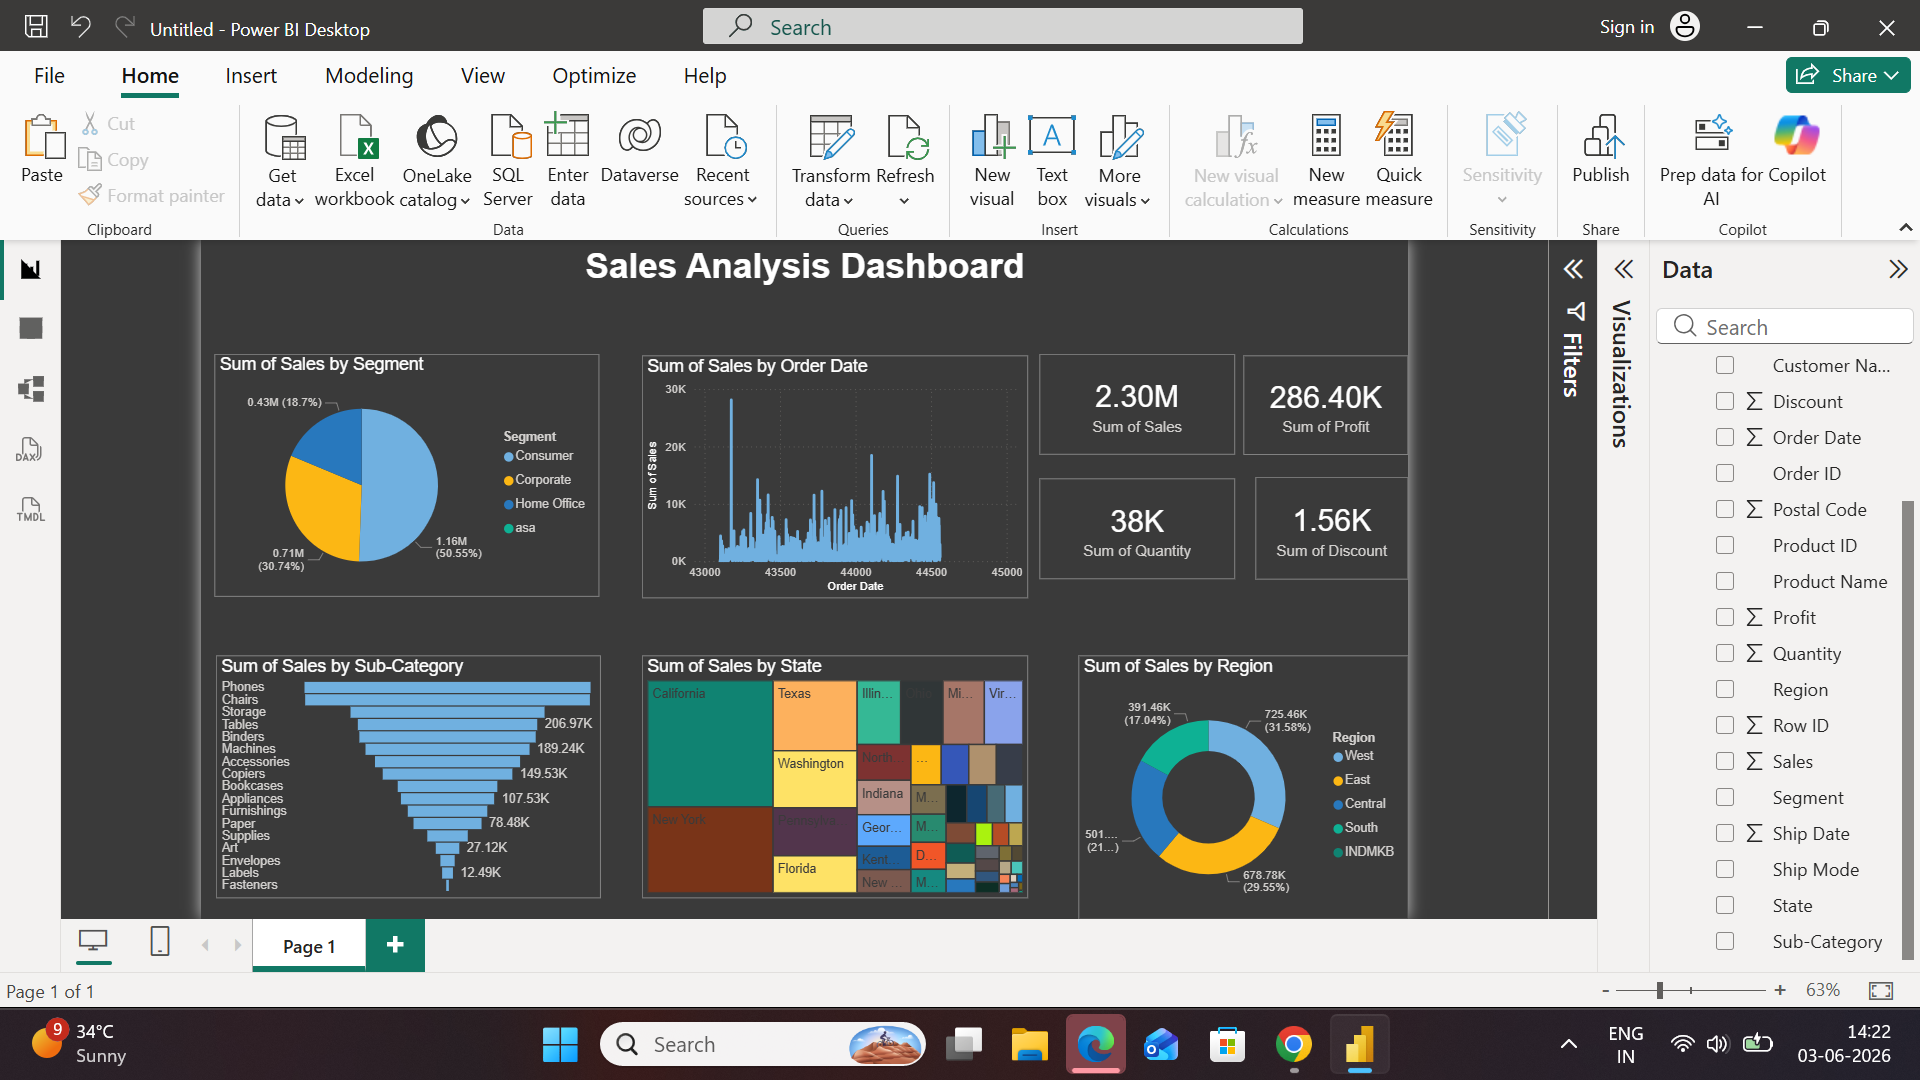

This screenshot's page, from the dashboard's own definition file:
{"tool":"powerbi","page":{"name":"Page 1","canvas":[1280,720],"ordinal":0},"visuals":[{"type":"donutChart","fields":{"Category":["Orders.Region"],"Y":["Sum(Orders.Sales)"]},"box":[931.1,440.4,349.8,280.1],"z":0},{"type":"funnel","fields":{"Category":["Orders.Sub-Category"],"Y":["Sum(Orders.Sales)"]},"box":[15.1,440.3,408.2,257],"z":1000},{"type":"pieChart","fields":{"Category":["Orders.Segment"],"Y":["Sum(Orders.Sales)"]},"box":[14.6,121.4,408,257.5],"z":1002},{"type":"lineChart","fields":{"Category":["Orders.Order Date"],"Y":["Sum(Orders.Sales)"]},"box":[468,123.1,409.7,257.5],"z":1003},{"type":"treemap","fields":{"Group":["Orders.State"],"Values":["Sum(Orders.Sales)"]},"box":[468,440.4,409.7,257.5],"z":1004},{"type":"card","fields":{"Values":["Sum(Orders.Sales)"]},"box":[889,121.4,207.3,106.9],"z":1005},{"type":"card","fields":{"Values":["Sum(Orders.Profit)"]},"box":[1105.9,123.1,174.9,105.2],"z":1006},{"type":"card","fields":{"Values":["Sum(Orders.Discount)"]},"box":[1118.9,251,161.9,108.5],"z":1007},{"type":"card","fields":{"Values":["Sum(Orders.Quantity)"]},"box":[889,252.6,207.3,106.9],"z":1008},{"type":"textbox","box":[0,0,1280.8,97.2],"z":1009}]}

Visuals, with their boxes on the page's 1280x720 design canvas (x1, y1, x2, y2). These are canvas units, not pixel positions in the 1920x1080 screenshot, which may show the page scaled, cropped or inside an application window:
donutChart - Orders.Region x Sum(Orders.Sales): detection(931, 440, 1281, 720)
funnel - Orders.Sub-Category x Sum(Orders.Sales): detection(15, 440, 423, 697)
pieChart - Orders.Segment x Sum(Orders.Sales): detection(15, 121, 423, 379)
lineChart - Orders.Order Date x Sum(Orders.Sales): detection(468, 123, 878, 381)
treemap - Orders.State x Sum(Orders.Sales): detection(468, 440, 878, 698)
card - Sum(Orders.Sales): detection(889, 121, 1096, 228)
card - Sum(Orders.Profit): detection(1106, 123, 1281, 228)
card - Sum(Orders.Discount): detection(1119, 251, 1281, 360)
card - Sum(Orders.Quantity): detection(889, 253, 1096, 360)
textbox: detection(0, 0, 1281, 97)
